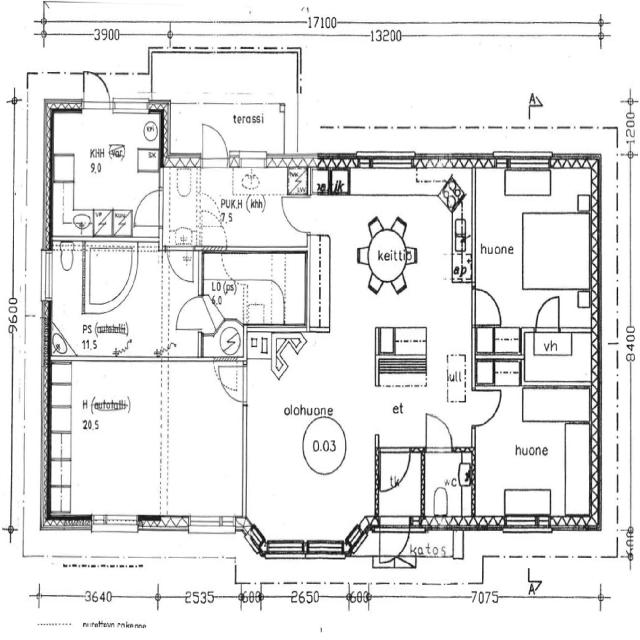door: (374, 445, 414, 497), (195, 197, 228, 251), (470, 282, 504, 330), (468, 386, 504, 431), (378, 520, 412, 567), (198, 120, 230, 169), (421, 409, 455, 455), (214, 358, 247, 405), (81, 70, 113, 115), (173, 293, 206, 335), (132, 188, 164, 230), (281, 192, 310, 235), (534, 292, 562, 334), (166, 246, 194, 284)
window: (236, 401, 253, 518), (86, 508, 144, 535), (261, 537, 323, 562), (183, 510, 236, 539), (357, 150, 416, 174), (243, 515, 271, 561), (38, 246, 58, 310), (304, 535, 348, 561), (506, 152, 554, 175), (502, 513, 551, 535), (112, 96, 149, 116), (551, 525, 585, 538), (273, 46, 290, 54)
zone: (322, 164, 470, 308), (471, 171, 596, 322), (470, 382, 596, 530), (48, 107, 160, 242), (199, 252, 307, 326), (522, 210, 593, 290), (421, 446, 475, 527), (82, 237, 136, 314), (523, 332, 594, 387)
